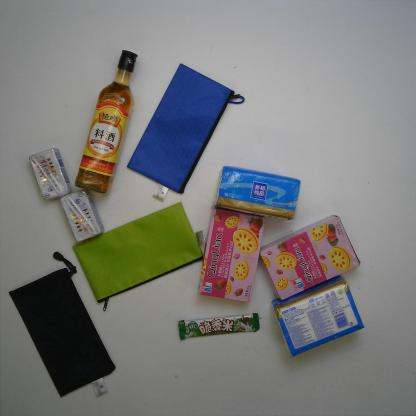Chocolate: (177, 312, 257, 341)
Dessert: (255, 215, 361, 299), (196, 199, 268, 304)
Milk: (57, 189, 104, 244), (29, 148, 72, 205)
Seasoner: (72, 46, 145, 193)
Stationery: (10, 250, 118, 396), (64, 201, 208, 302), (128, 61, 235, 190)
Tissue: (268, 284, 363, 360), (211, 163, 304, 222)
